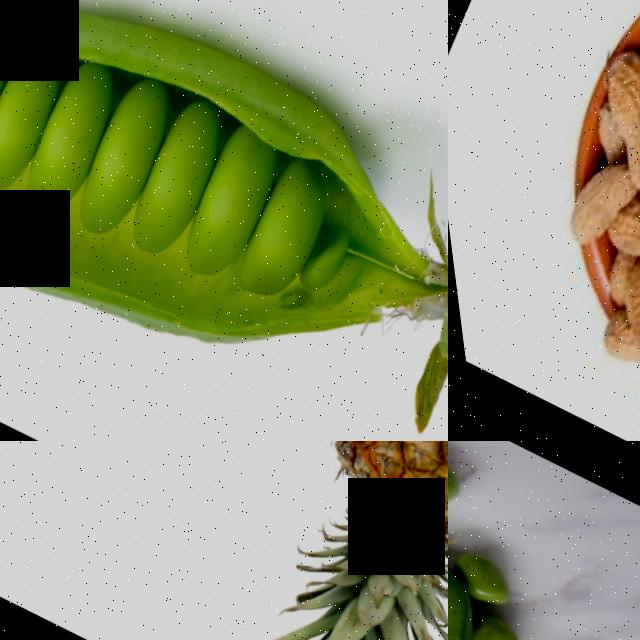peanuts: (559, 46, 640, 174), (543, 158, 633, 257), (592, 191, 640, 268), (616, 95, 640, 218), (616, 332, 640, 427)
peas: (0, 0, 383, 367), (448, 536, 574, 640)
pineapple: (235, 441, 448, 640)
